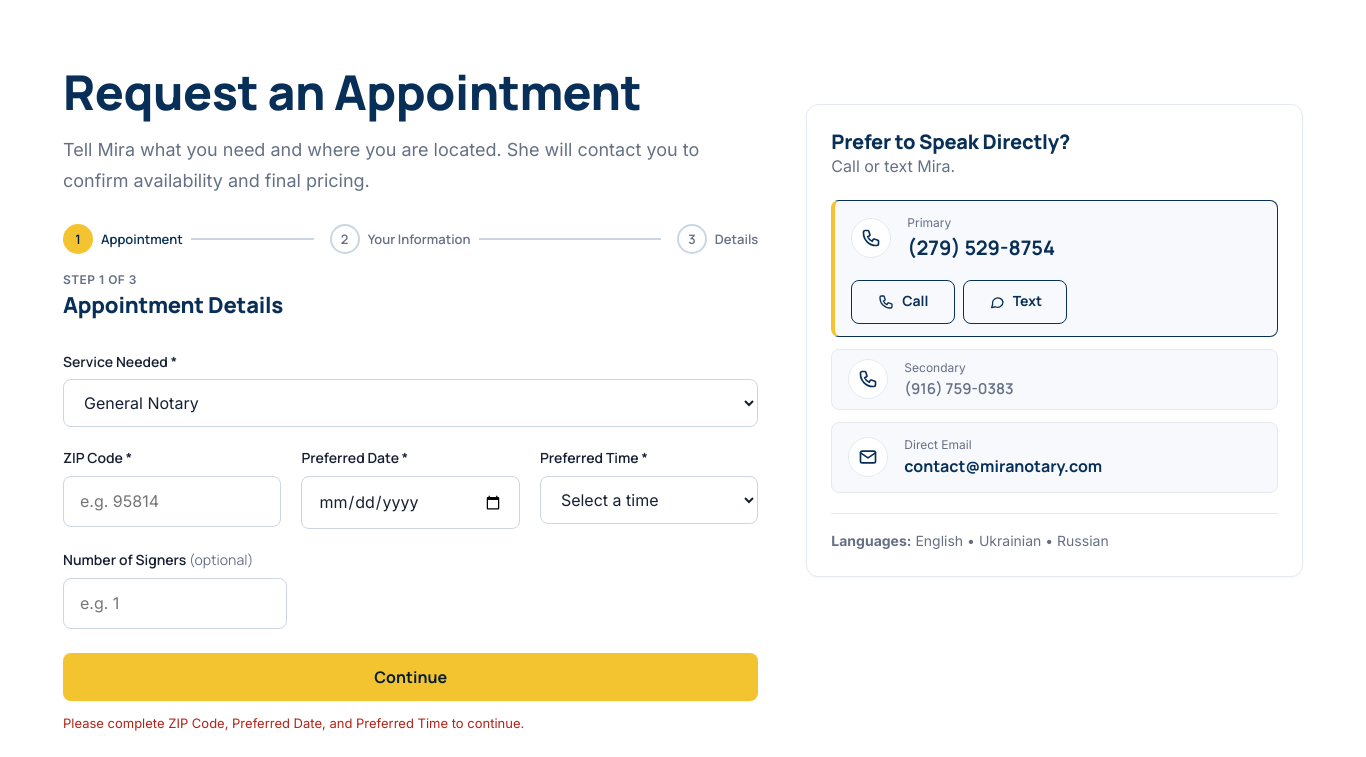
Test case: ContactComponent › required fields › timePreference is required
The width and height of the screenshot is (1366, 757).
Select "Select a time" in the dropdown labelled "Preferred Time *". click: [649, 500]
box: left=540, top=476, right=758, bottom=524
Leave the dropdown labelled "Preferred Time *", box left=540, top=476, right=758, bottom=524
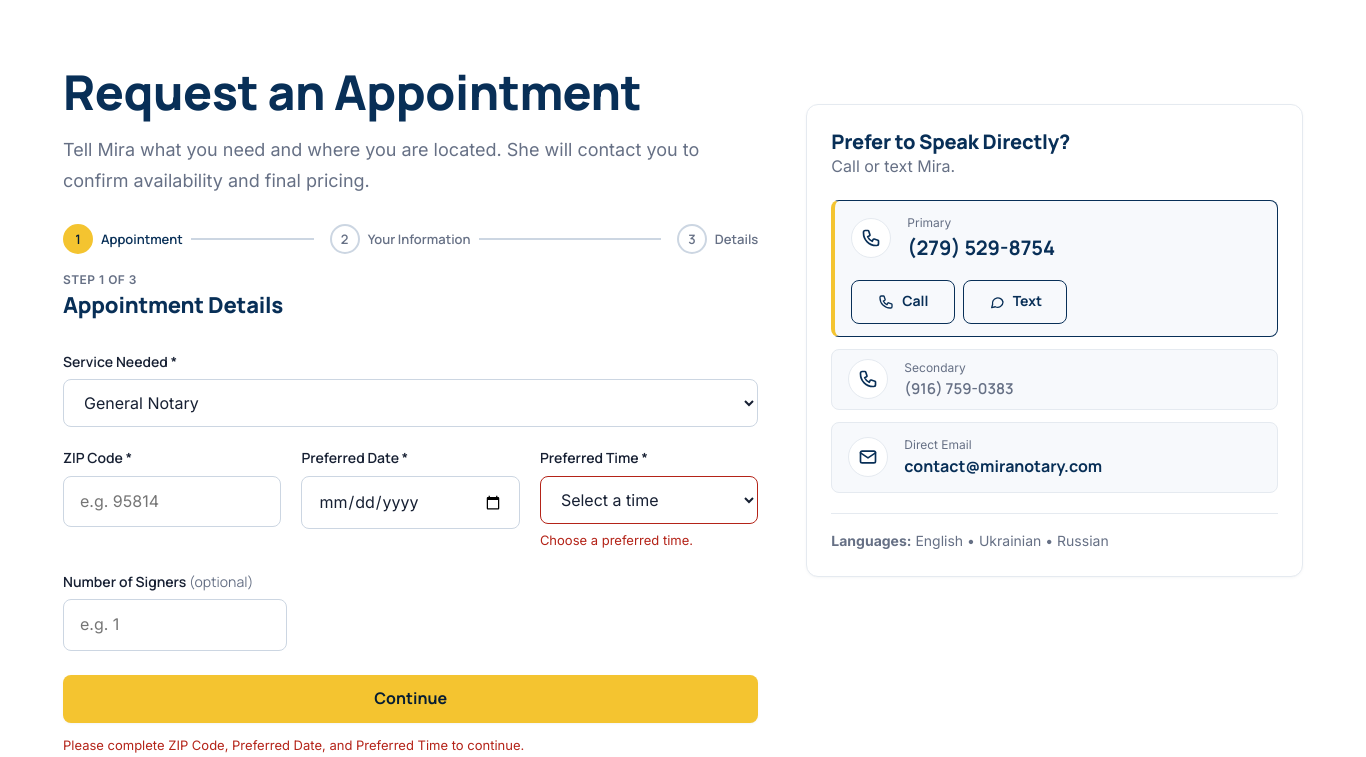
Expected: the text "Choose a preferred time." is shown, left=540, top=532, right=693, bottom=548
